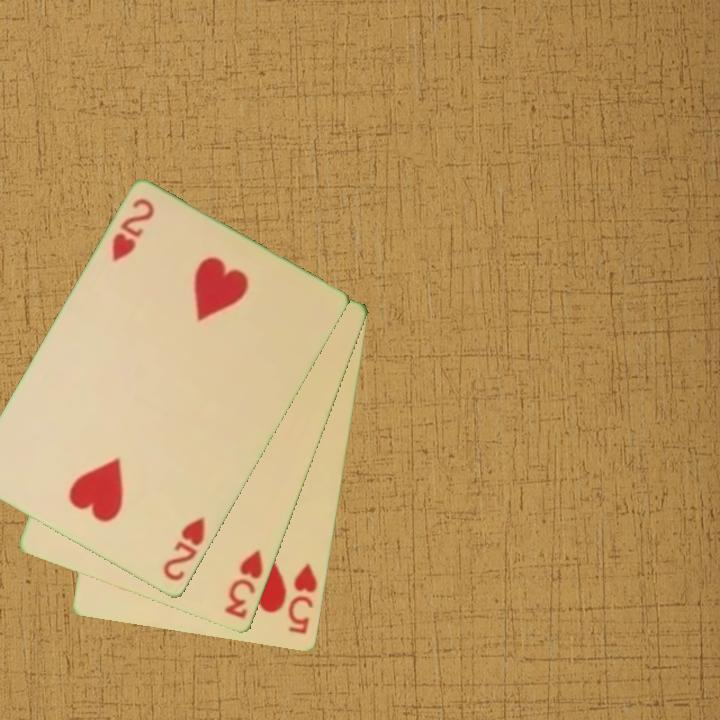2h: (159, 513, 209, 585), (108, 195, 158, 265)
3h: (220, 547, 267, 622)
5h: (284, 560, 321, 638)
